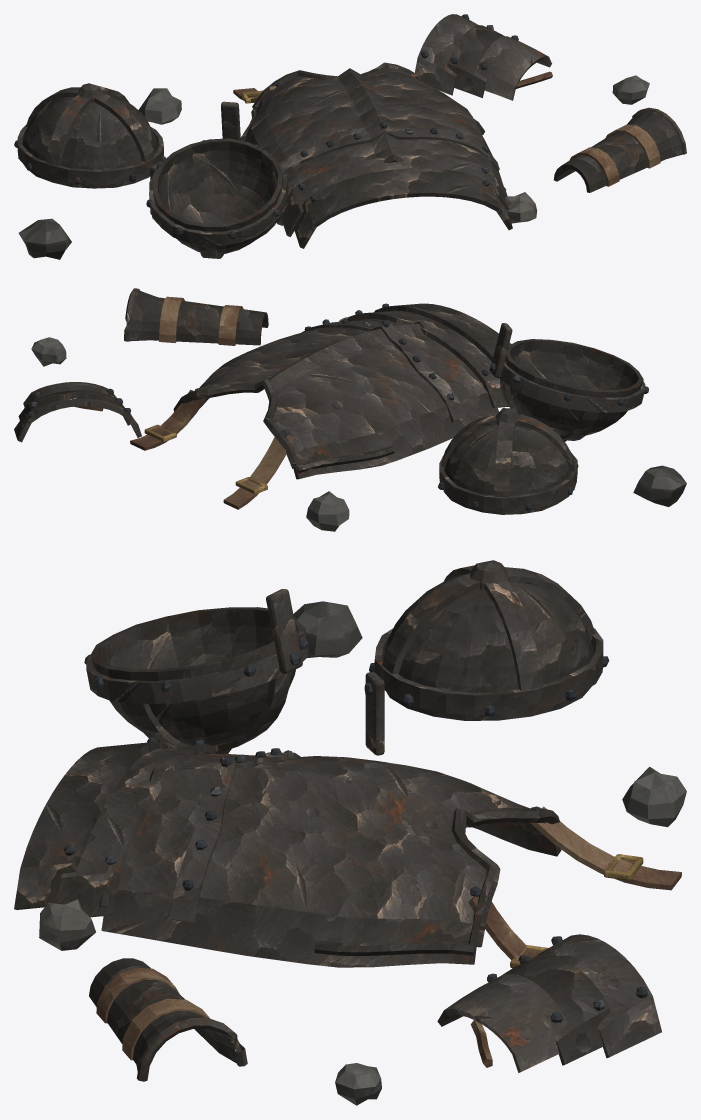
File: junk_armour_pile.glb
The picture shows the model from 3 angles, top to bottom: view 1: azimuth 30°, elevation 25°; view 2: azimuth 150°, elevation 25°; view 3: azimuth 270°, elevation 25°; orthographic projection. The views are drawn at different scales.
Parts seen in each view (by area): view 1: model; view 2: model; view 3: model.
Part boxes in pixels (bbox=[...]): model: bbox=[14, 14, 686, 259]; model: bbox=[14, 288, 686, 531]; model: bbox=[14, 560, 686, 1105].
Bounding box in the file's own units: 1.22 × 0.2273 × 0.7313.
9 materials, 9 textured.
